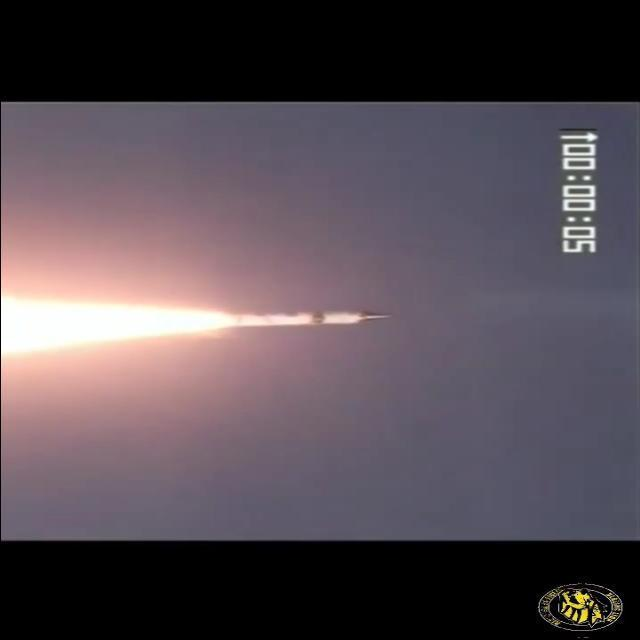missile: (224, 305, 392, 334)
